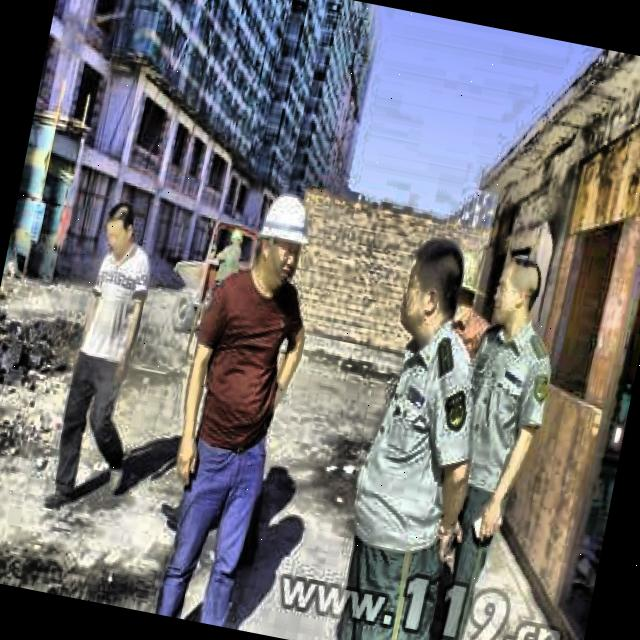helmet: (248, 184, 316, 292), (228, 227, 245, 250)
